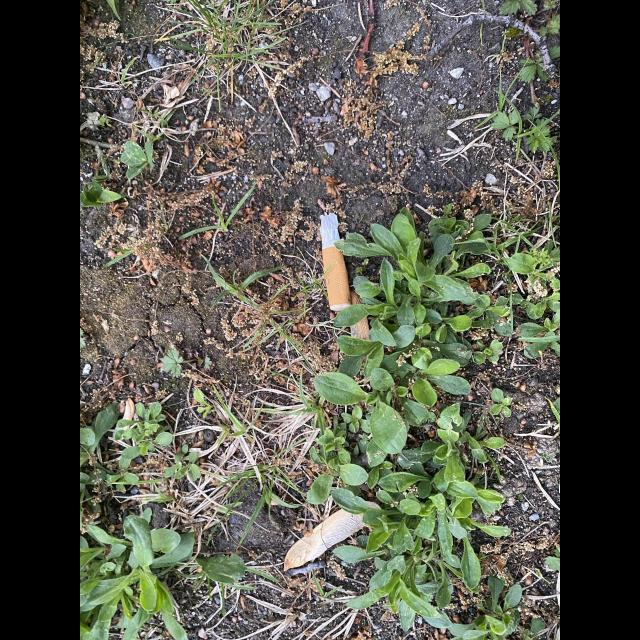cigarette: (319, 212, 352, 310)
